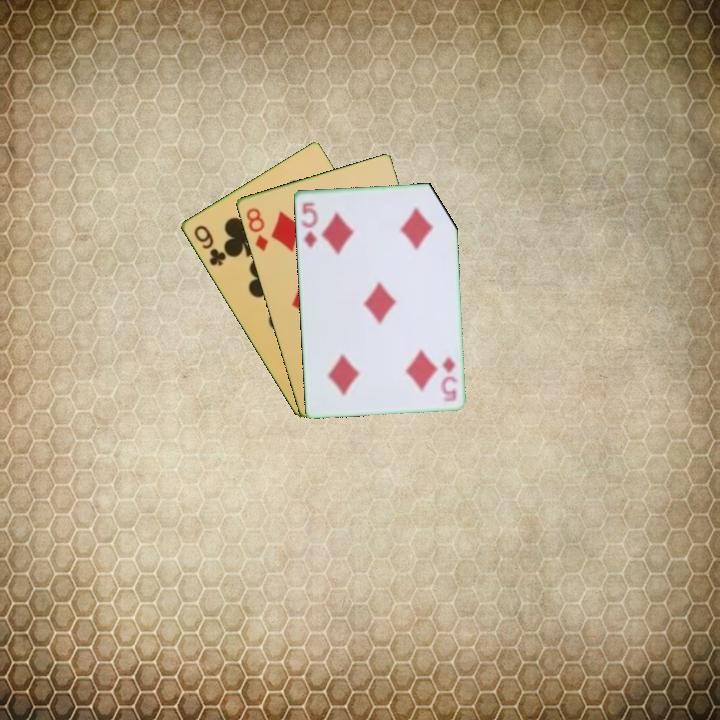5d: (298, 199, 321, 250), (438, 353, 460, 404)
8d: (242, 204, 271, 254)
9c: (190, 221, 229, 269)
